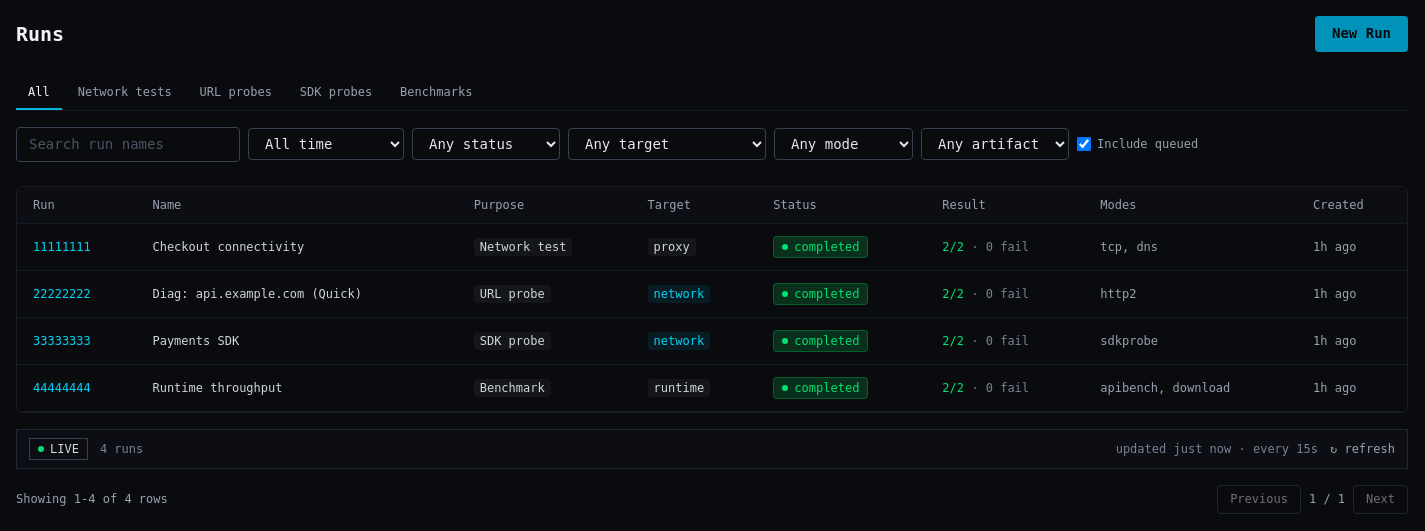
Test: RunsPage filters › filters URL probes independently from ordinary network targets
Click the button "URL probes". click: [236, 92]
box: [188,76,284,110]
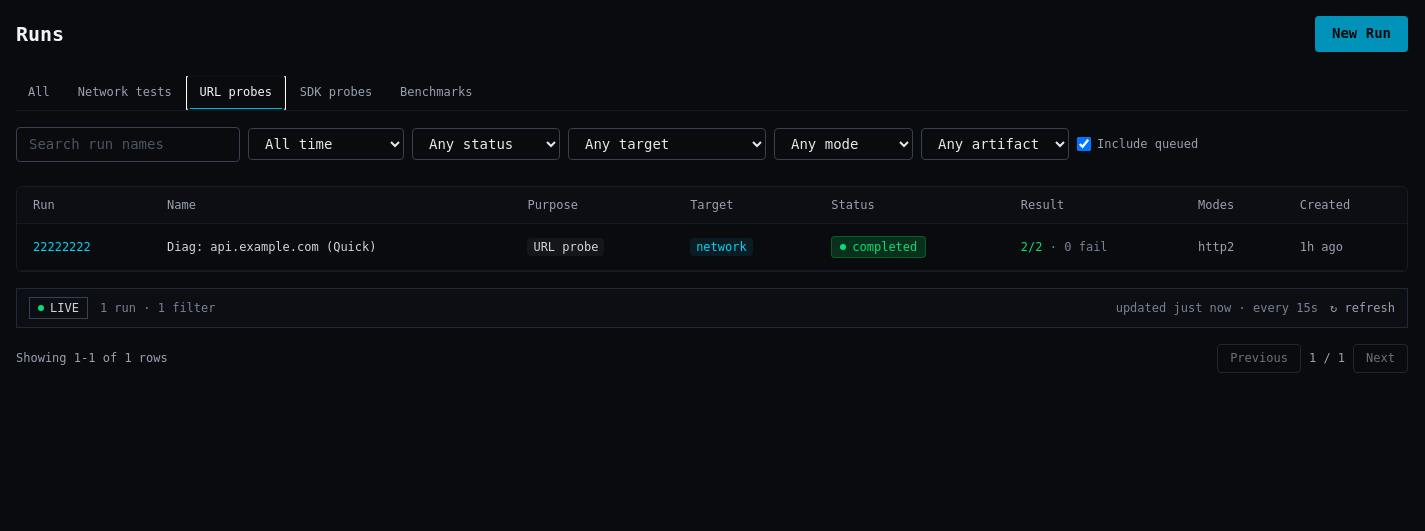
Expected: the text "Diag: api.example.com (Quick)" is shown, [151,223,511,270]
Result: the text "Checkout connectivity" is gone
Result: the text "Payments SDK" is gone
